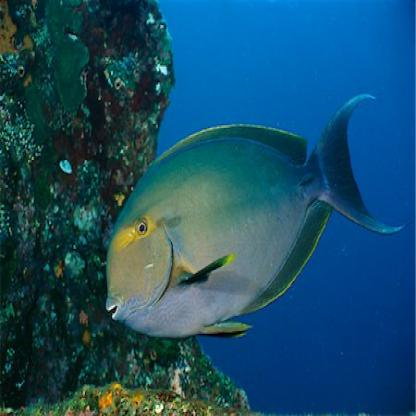Acanthuridae -Surgeonfishes-: (98, 80, 400, 349)
